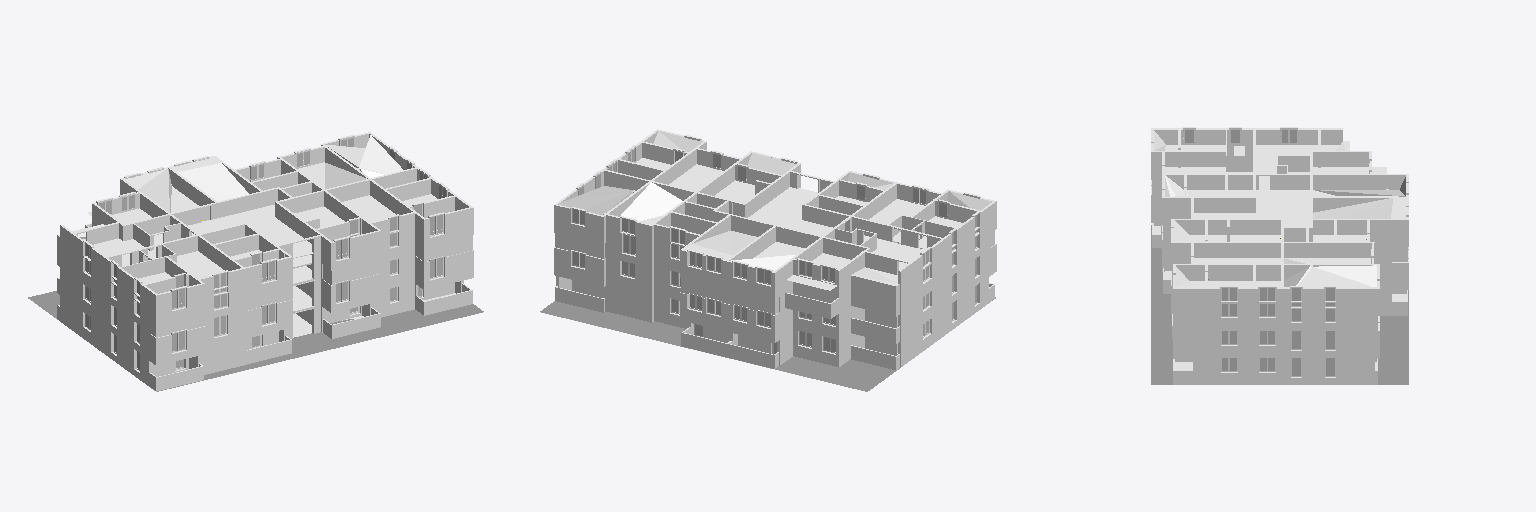
Rendered from Building2.obj.
3 renders of one model, left to right at view 1: azimuth 30°, elevation 25°; view 2: azimuth 150°, elevation 25°; view 3: azimuth 270°, elevation 25°, orthographic.
Visible parts, largest first — view 1: ground_1, wall_75_425, room_355_1767, wall_1_5, wall_144_815, room_397_1851, wall_225_1277, wall_232_1319, room_398_1853, room_396_1849, wall_220_1247, wall_27_149 (+28 smaller); view 2: ground_1, wall_75_425, wall_1_5, wall_144_815, room_355_1767, wall_225_1276, wall_245_1384, room_386_1829, wall_220_1247, room_398_1853, wall_17_100, wall_232_1318 (+28 smaller); view 3: ground_1, wall_88_502, wall_15_88, wall_158_898, wall_229_1300, wall_233_1324, room_355_1767, wall_220_1246, room_398_1853, wall_244_1379, wall_236_1342, room_397_1851 (+12 smaller).
Part boxes in pixels (x1,y1,x2,y2): ground_1: (28, 291, 483, 391); wall_75_425: (60, 268, 148, 359); room_355_1767: (188, 205, 311, 255); wall_1_5: (60, 296, 149, 385); wall_144_815: (60, 241, 148, 332); room_397_1851: (171, 157, 248, 201); wall_225_1277: (123, 193, 261, 240); wall_232_1319: (281, 169, 416, 212); room_398_1853: (324, 135, 402, 177); room_396_1849: (124, 168, 197, 212); wall_220_1247: (60, 225, 148, 316); wall_27_149: (200, 339, 246, 374); ground_1: (540, 297, 995, 391); wall_75_425: (899, 250, 988, 341); wall_1_5: (899, 278, 988, 367); wall_144_815: (900, 222, 988, 313); room_355_1767: (748, 187, 832, 235); wall_225_1276: (731, 215, 866, 259); wall_245_1384: (802, 205, 940, 247); room_386_1829: (621, 182, 682, 221); wall_220_1247: (899, 207, 988, 292); room_398_1853: (559, 186, 633, 214); wall_17_100: (603, 285, 648, 321); wall_232_1318: (604, 171, 744, 216); ground_1: (1151, 225, 1408, 384); wall_88_502: (1193, 331, 1374, 358); wall_15_88: (1193, 359, 1374, 384); wall_158_898: (1193, 304, 1374, 330); wall_229_1300: (1189, 243, 1374, 263); wall_233_1324: (1193, 289, 1374, 315); room_355_1767: (1194, 190, 1309, 225); wall_220_1246: (1166, 130, 1342, 144); room_398_1853: (1284, 265, 1376, 286); wall_244_1379: (1166, 175, 1309, 189); wall_236_1342: (1189, 265, 1371, 280); room_397_1851: (1313, 198, 1405, 218).
Bounding box in the file's own units: 2763 × 787 × 1882.